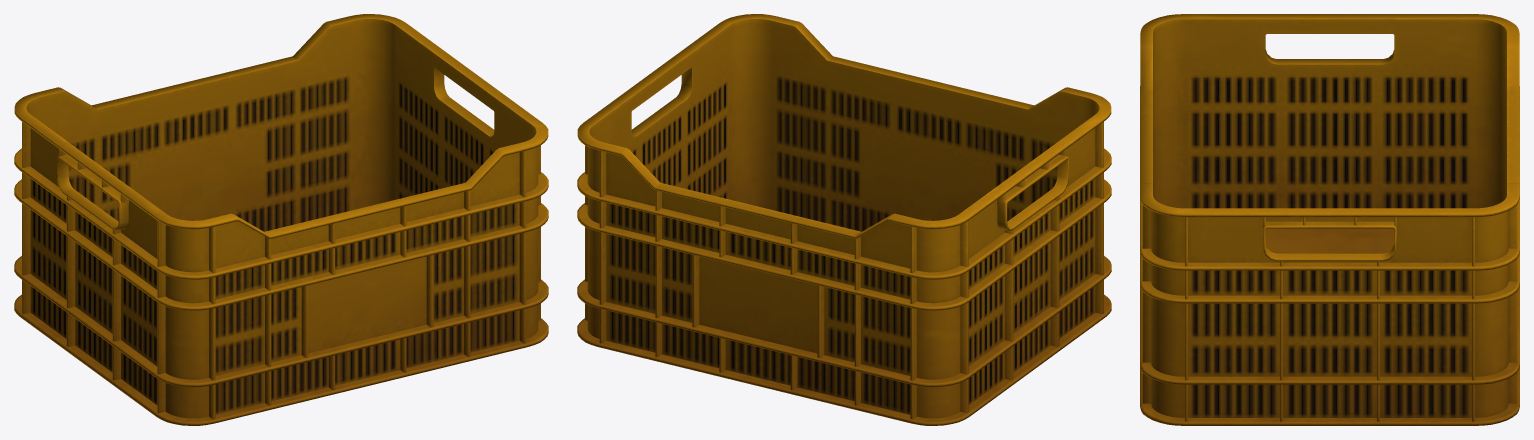
File: plastic_crate_02.glb
3 views of the same model, side by side, from view 1: azimuth 30°, elevation 25°; view 2: azimuth 150°, elevation 25°; view 3: azimuth 270°, elevation 25° (orthographic). The views are drawn at different scales.
Visible parts, largest first — view 1: plastic_crate_02; view 2: plastic_crate_02; view 3: plastic_crate_02.
Boxes of the visible parts, left/top/right/bottom form: plastic_crate_02: left=14, top=14, right=548, bottom=425; plastic_crate_02: left=577, top=14, right=1111, bottom=425; plastic_crate_02: left=1140, top=14, right=1519, bottom=425.
Bounding box in the file's own units: 0.5055 × 0.2541 × 0.4055.
1 material, 1 textured.
